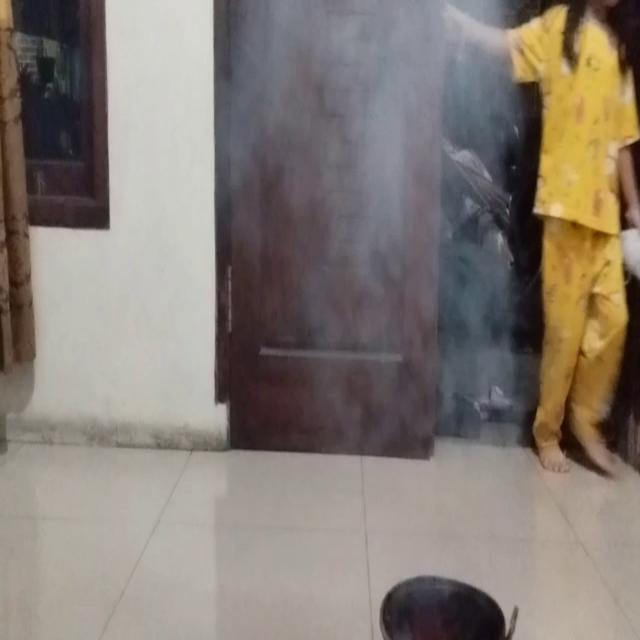fire: (234, 0, 505, 457)
